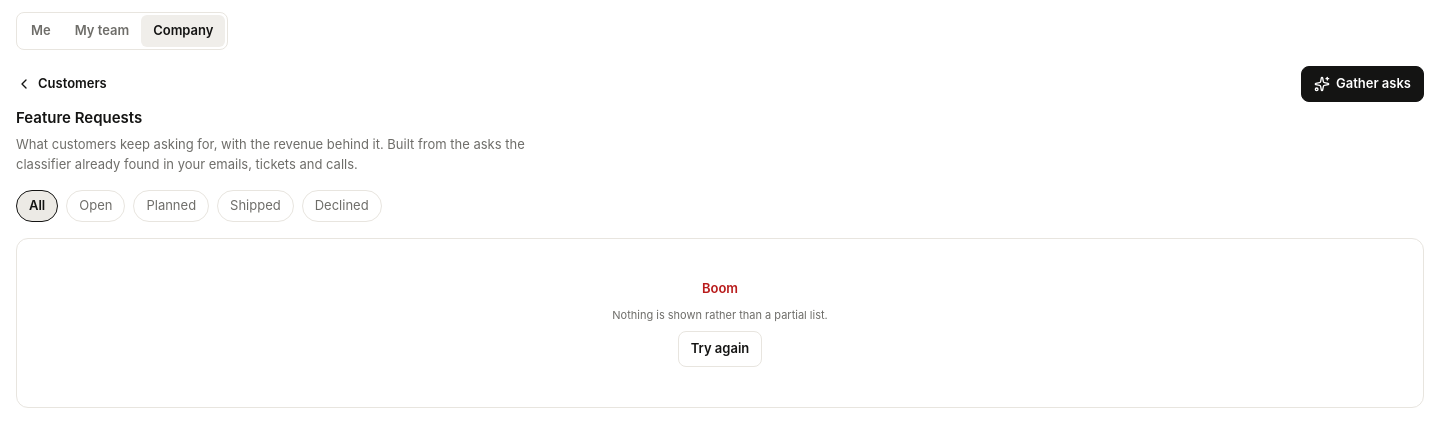
Scenario: FeatureRequestsPage › shows the error with a retry
expect the message shows "Boom": met, box [702, 280, 738, 296]
Click the button "Try again".
click(720, 348)  # box [678, 330, 762, 366]
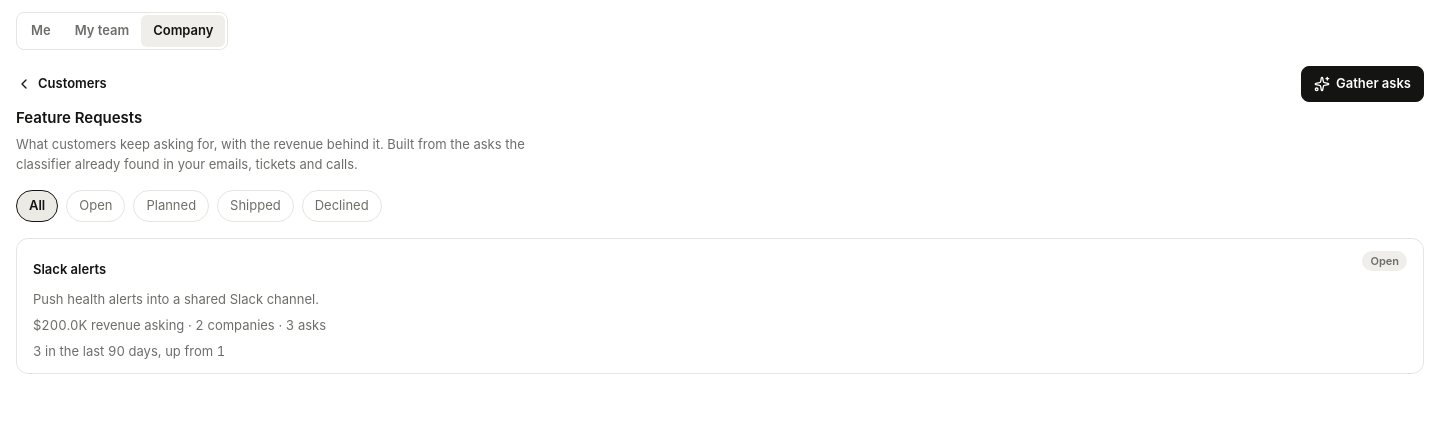
expect the button "Slack alerts" is shown: met, box [33, 251, 319, 287]
